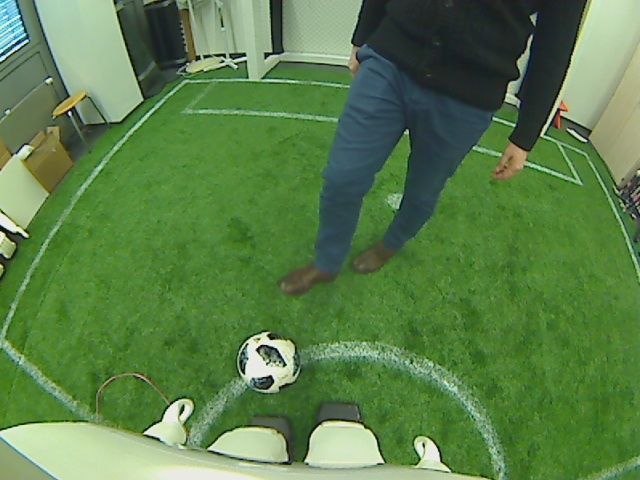ball: (235, 328, 300, 392)
